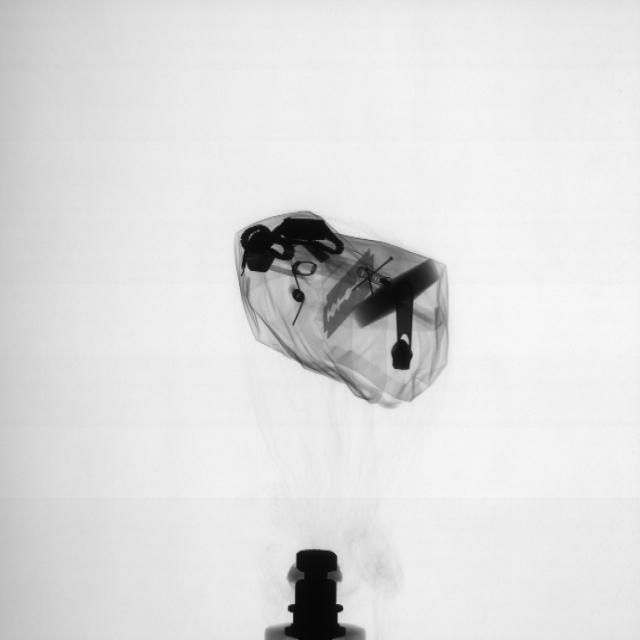BLADE: (319, 256, 372, 344)
